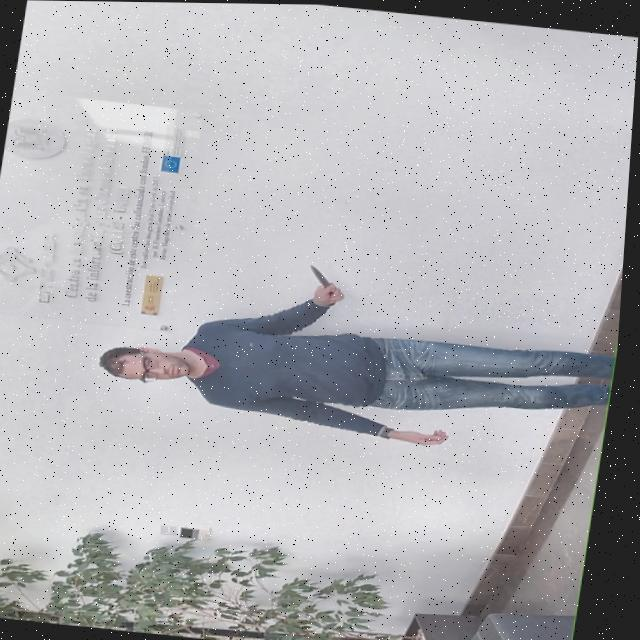knife: (310, 263, 337, 286)
